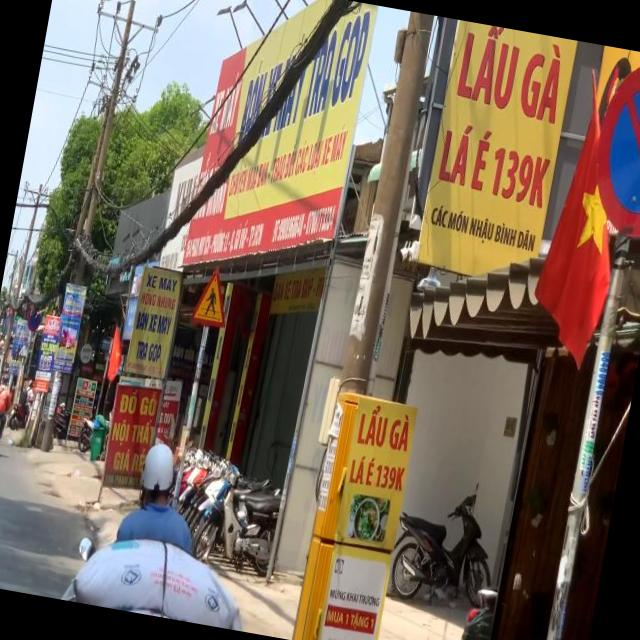W-224: (190, 264, 234, 324)
